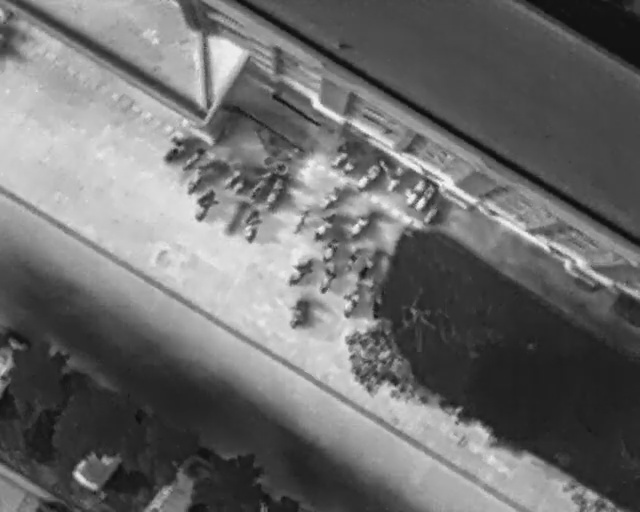Bicycle: (282, 254, 317, 290), (352, 159, 385, 192), (401, 173, 430, 206), (411, 182, 440, 214), (240, 206, 264, 244), (286, 296, 311, 332), (313, 262, 340, 295), (317, 234, 346, 264), (177, 143, 208, 171), (263, 176, 290, 208), (309, 212, 339, 240), (317, 186, 345, 214), (293, 204, 312, 233), (348, 216, 370, 238)
